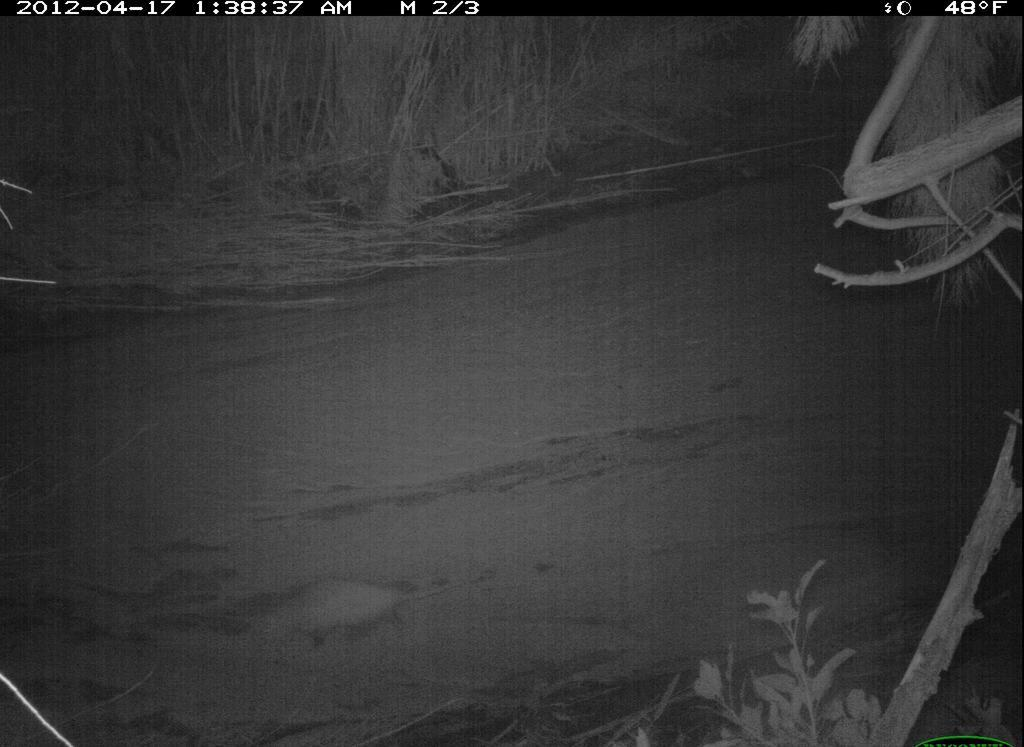opossum: (250, 571, 457, 655)
